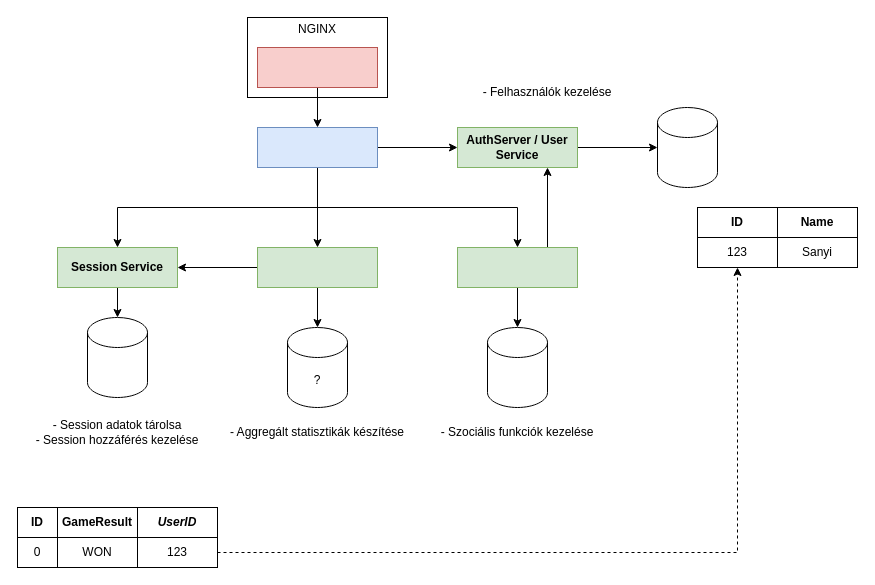
This 875x585 diagram has some shape labels left out. The centre of each missing label's shape, as x and y in pixels:
API Gateway: point 317,147
Frontend: point 317,67
Social Service: point 517,267
Statistics Service: point 317,267
